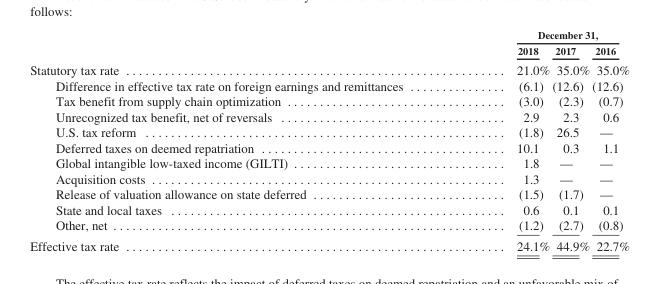table: (29, 28, 629, 252)
table column: (29, 28, 459, 252), (459, 28, 550, 252), (550, 28, 590, 252), (590, 28, 629, 252)
table column header: (29, 28, 629, 59)
table row: (29, 59, 629, 77), (29, 217, 629, 235), (29, 42, 629, 59), (29, 235, 629, 252), (29, 77, 629, 93), (29, 108, 629, 124), (29, 139, 629, 155), (29, 170, 629, 186), (29, 201, 629, 217), (29, 93, 629, 108), (29, 124, 629, 139), (29, 155, 629, 170), (29, 186, 629, 201), (29, 28, 629, 42)
table spanning cell: (459, 28, 629, 42)
